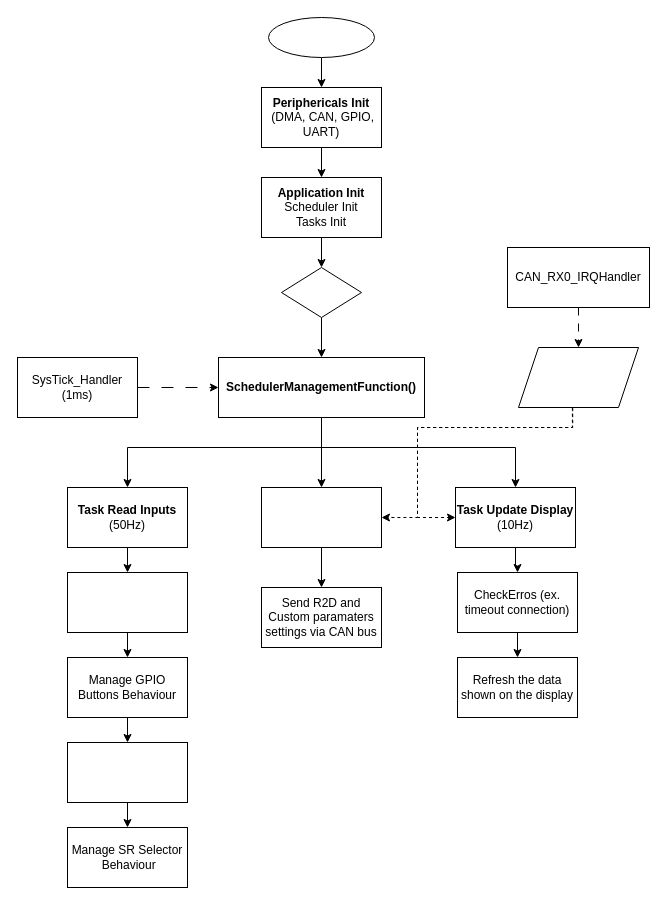
Some shapes in this 667 by 905 pixel diagram are drawn without their labels. The shapes that lost their labels are listed below. From the top down, each one's centre as x and y in pixels, then its label:
At [321,37]: "START".
At [321,292]: "while(1)".
At [578,377]: "car_data".
At [321,517]: "Task Send Can (6.66Hz)".
At [127,602]: "Read GPIO Buttons State".
At [127,772]: "Read SR Selector State".
